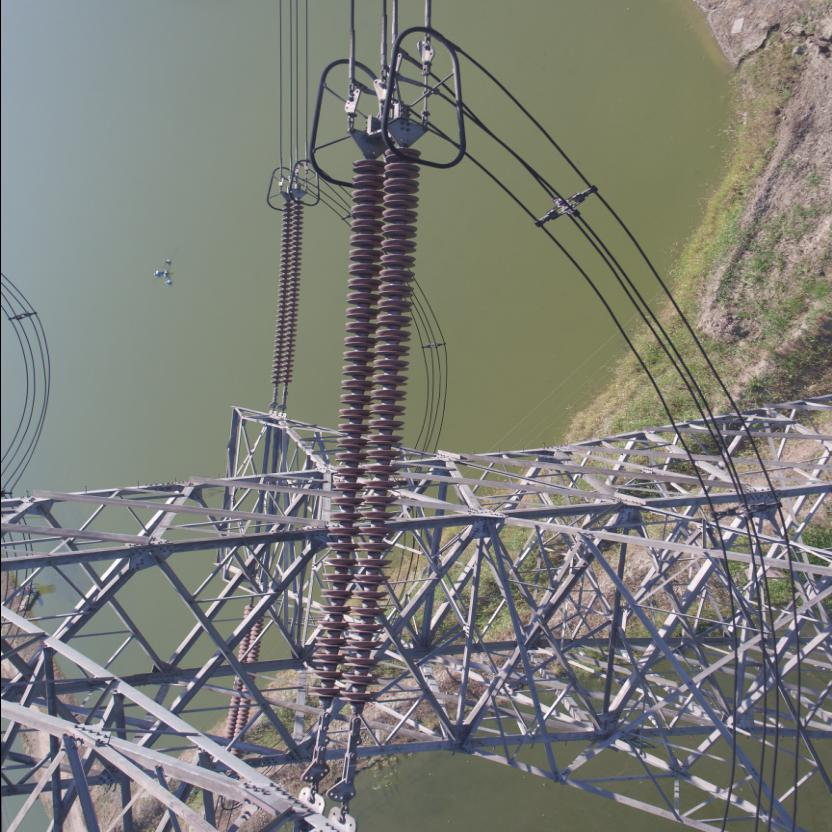insulator: (304, 140, 422, 738), (266, 194, 304, 394), (219, 601, 263, 739)
